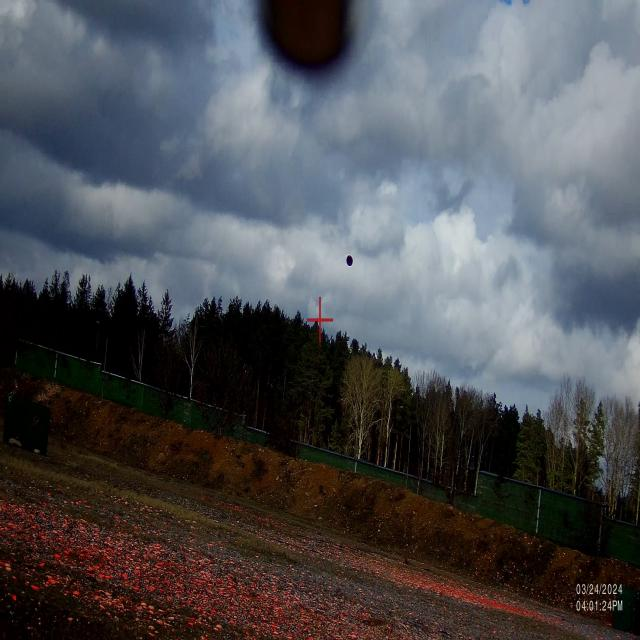entire: (341, 254, 355, 272)
